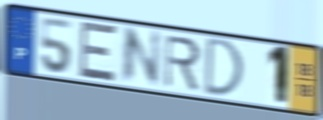1: (265, 44, 290, 110)
5: (39, 15, 73, 77)
D: (202, 35, 246, 98)
E: (77, 19, 119, 84)
N: (119, 26, 164, 87)
R: (163, 33, 203, 93)
